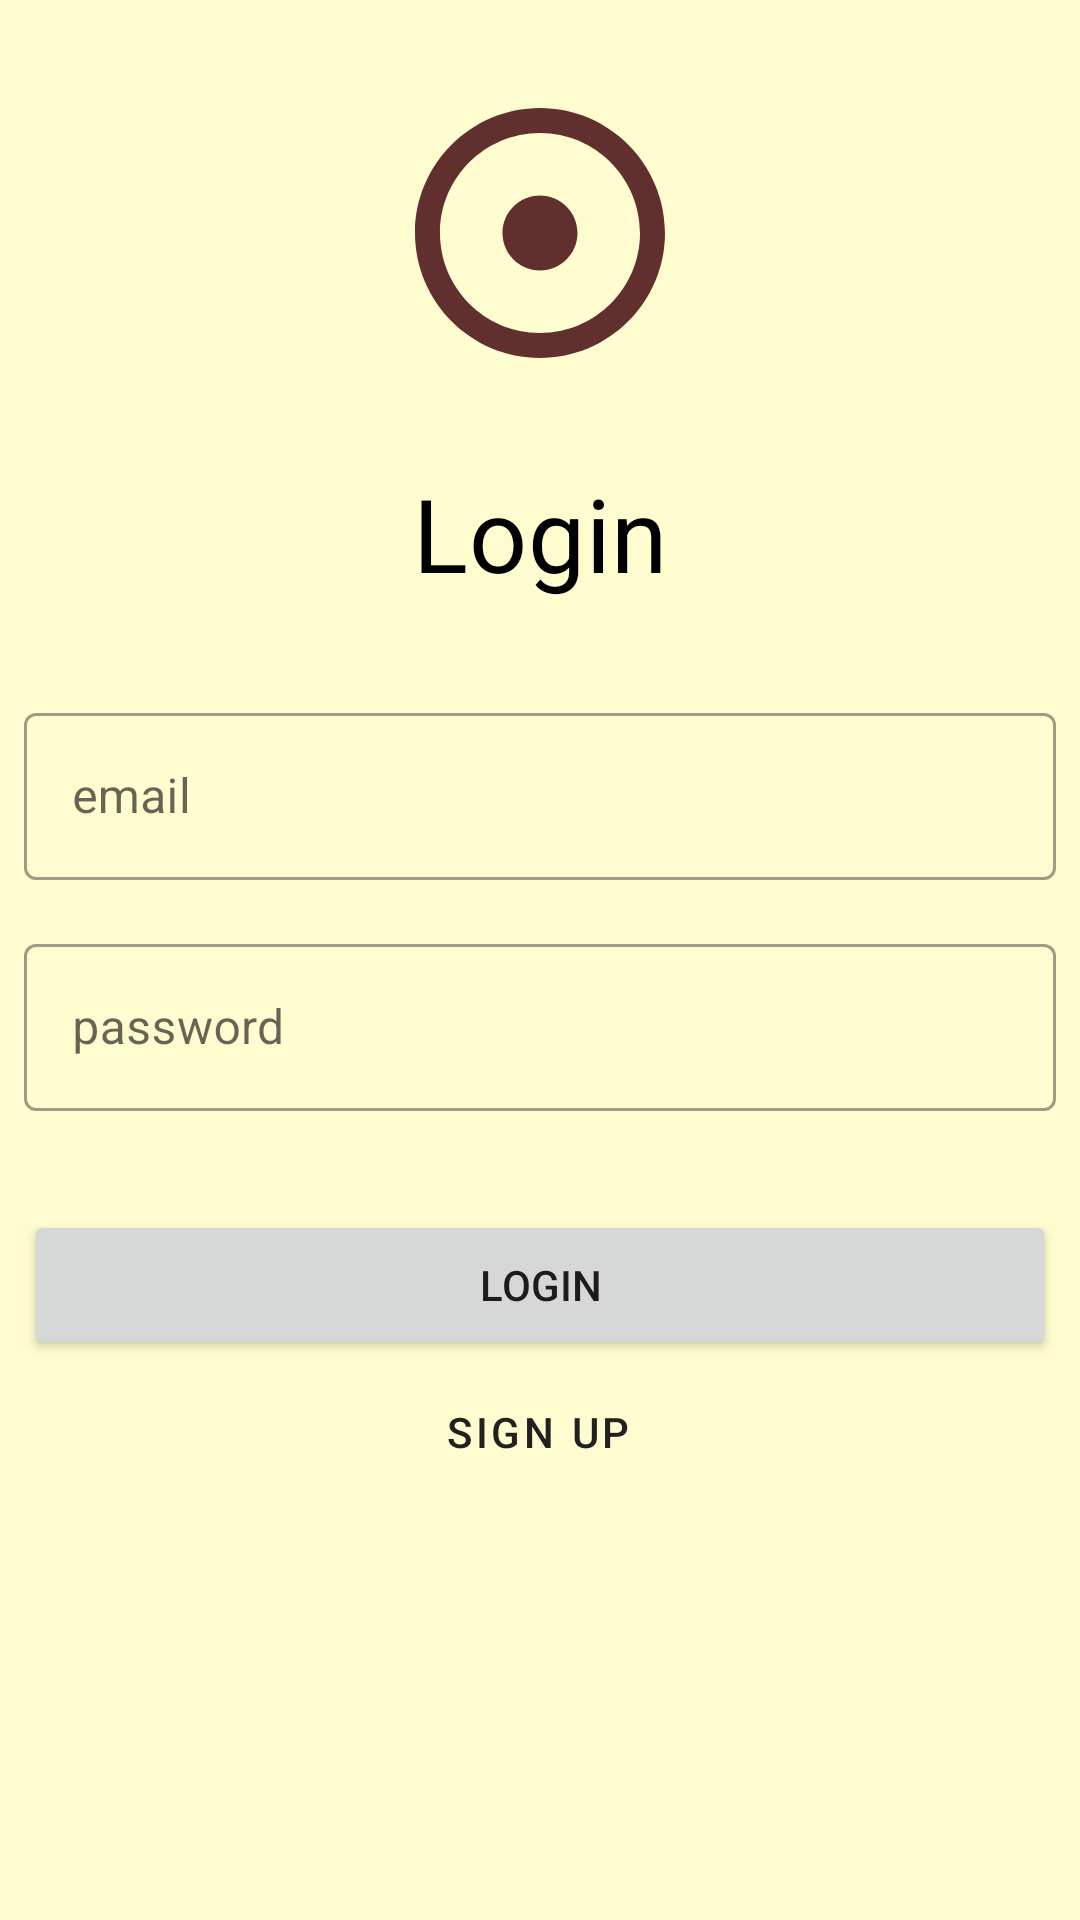

Screen size 1080w x 1920h. Icon name, then its center in pixels as [x,y]:
adjust: [540,233]
